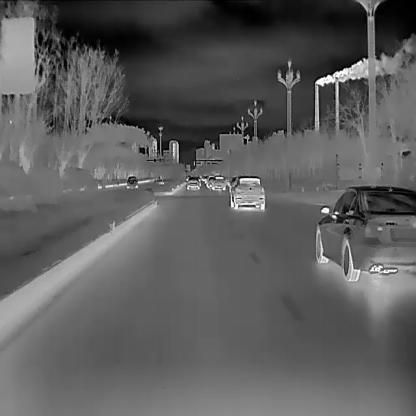car: (314, 184, 415, 282), (229, 176, 264, 209), (210, 175, 226, 190), (186, 177, 199, 190), (126, 174, 137, 188)
